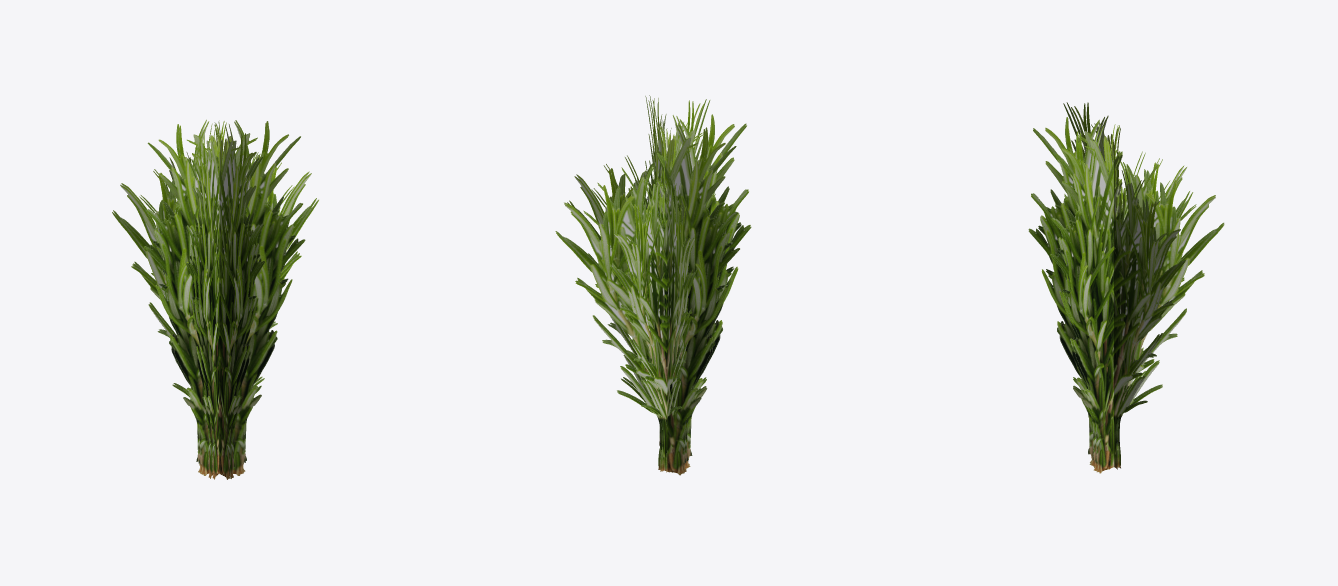
The model's file is Rosemary.fbx.
The picture shows the model from 3 angles, left to right: view 1: azimuth 30°, elevation 25°; view 2: azimuth 150°, elevation 25°; view 3: azimuth 270°, elevation 25°; orthographic projection. The views are drawn at different scales.
Visible parts, largest first — view 1: rosemary-froots-min; view 2: rosemary-froots-min; view 3: rosemary-froots-min.
Boxes of the visible parts, left/top/right/bottom form: rosemary-froots-min: left=112, top=119, right=318, bottom=479; rosemary-froots-min: left=555, top=95, right=751, bottom=475; rosemary-froots-min: left=1028, top=102, right=1224, bottom=473.
Size of the model in its own units: 285 by 285 by 285.
